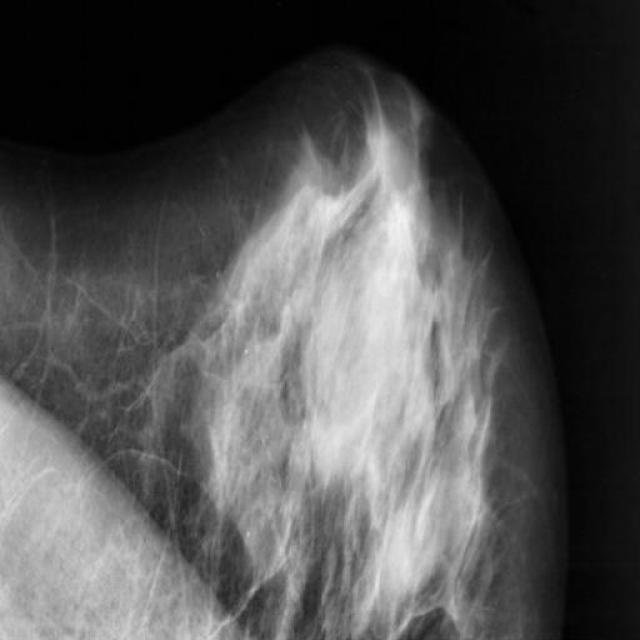cancer: (297, 139, 375, 260)
